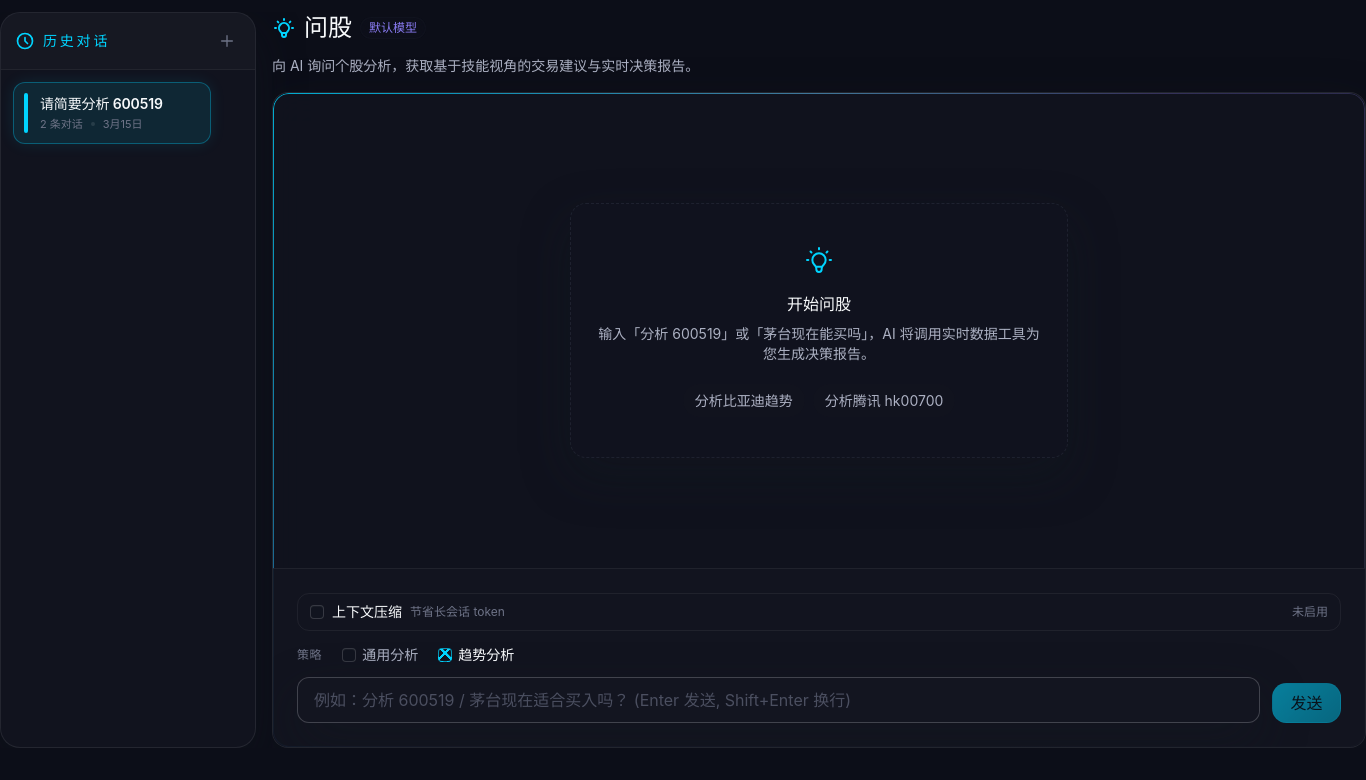
Test case: watchlist button with code variants › shows "从自选删除" when canonical code is in watchlist and user inputs variant
The image size is (1366, 780).
Type "分析 600519.SH" into the text box with placeholder "例如：分析 600519 / 茅台现在适合买入吗？ (Enter 发送, Shift+Enter 换行)" at (778, 700), box left=297, top=677, right=1260, bottom=723
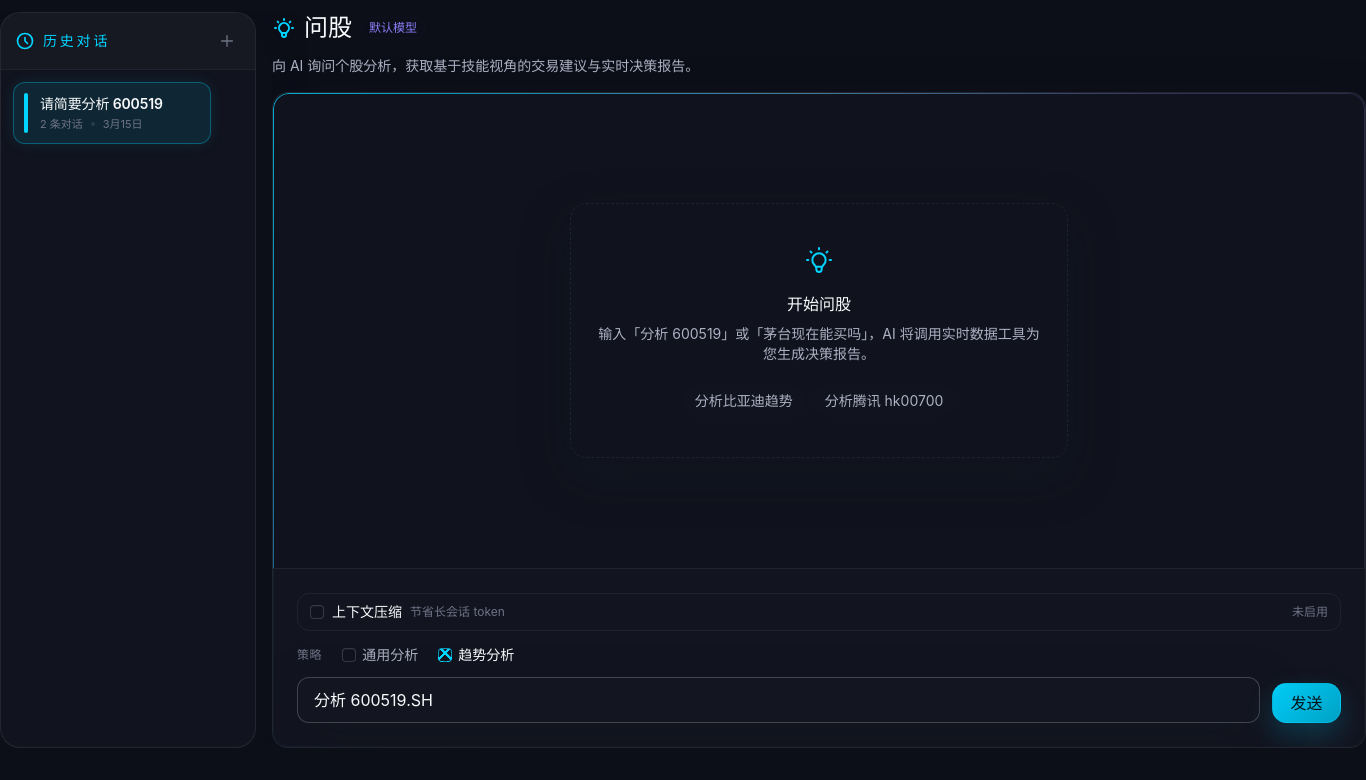
Press Enter in the text box with placeholder "例如：分析 600519 / 茅台现在适合买入吗？ (Enter 发送, Shift+Enter 换行)", box left=297, top=677, right=1260, bottom=723
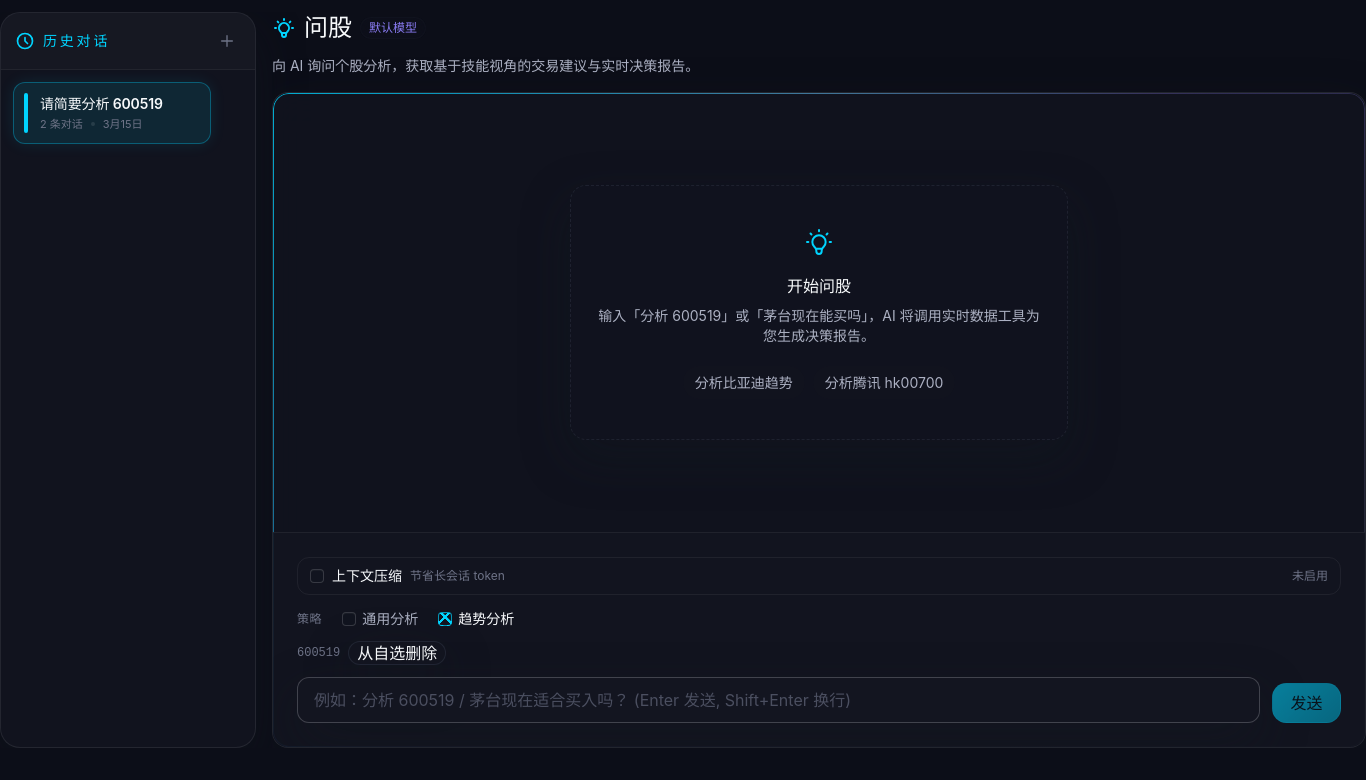
Result: the button "从自选删除" is shown at left=348, top=641, right=446, bottom=665
